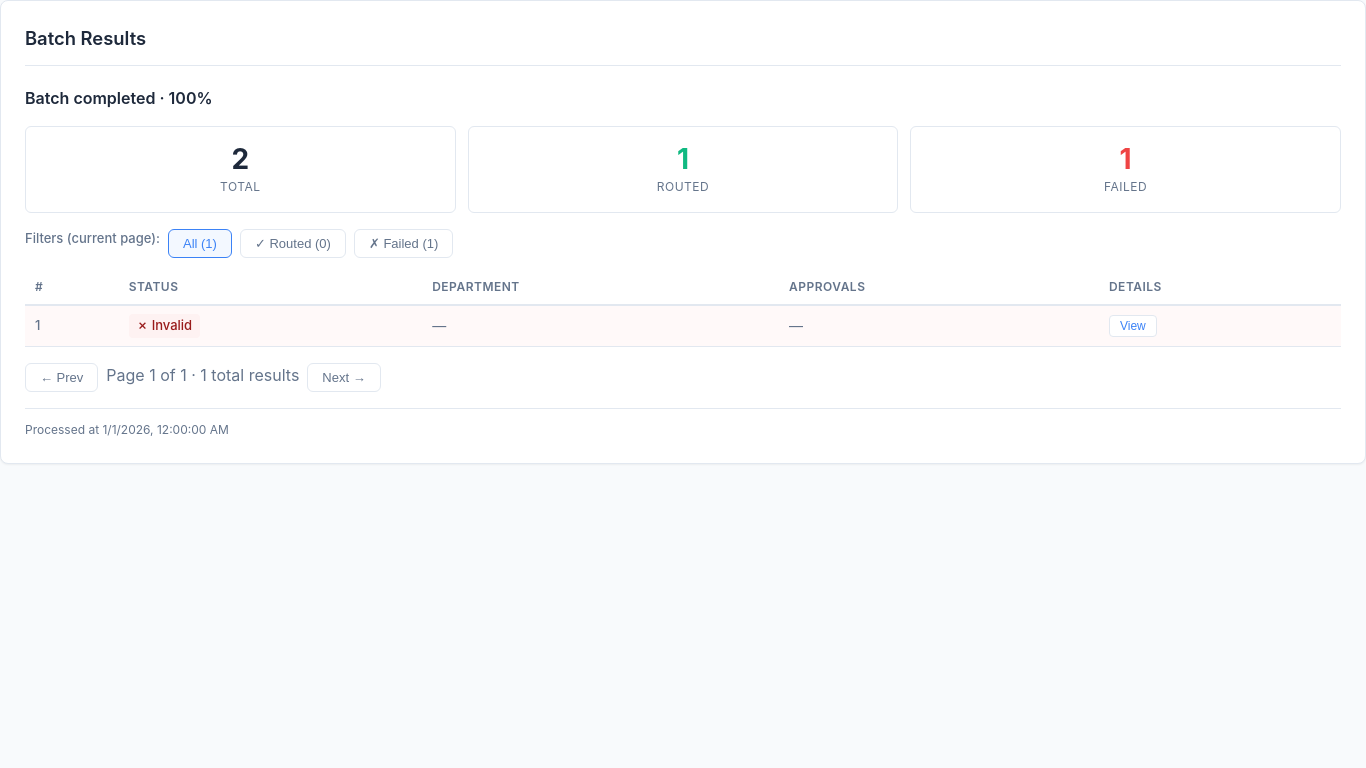
Scenario: BatchResults approvals (generic, data-driven) › invalid rows without error details render a fallback instead of crashing
What coordinates should you click on to do the following:
click the button "View"
I would click on:
 (1133, 326)
Its box is [1109,316,1157,338].
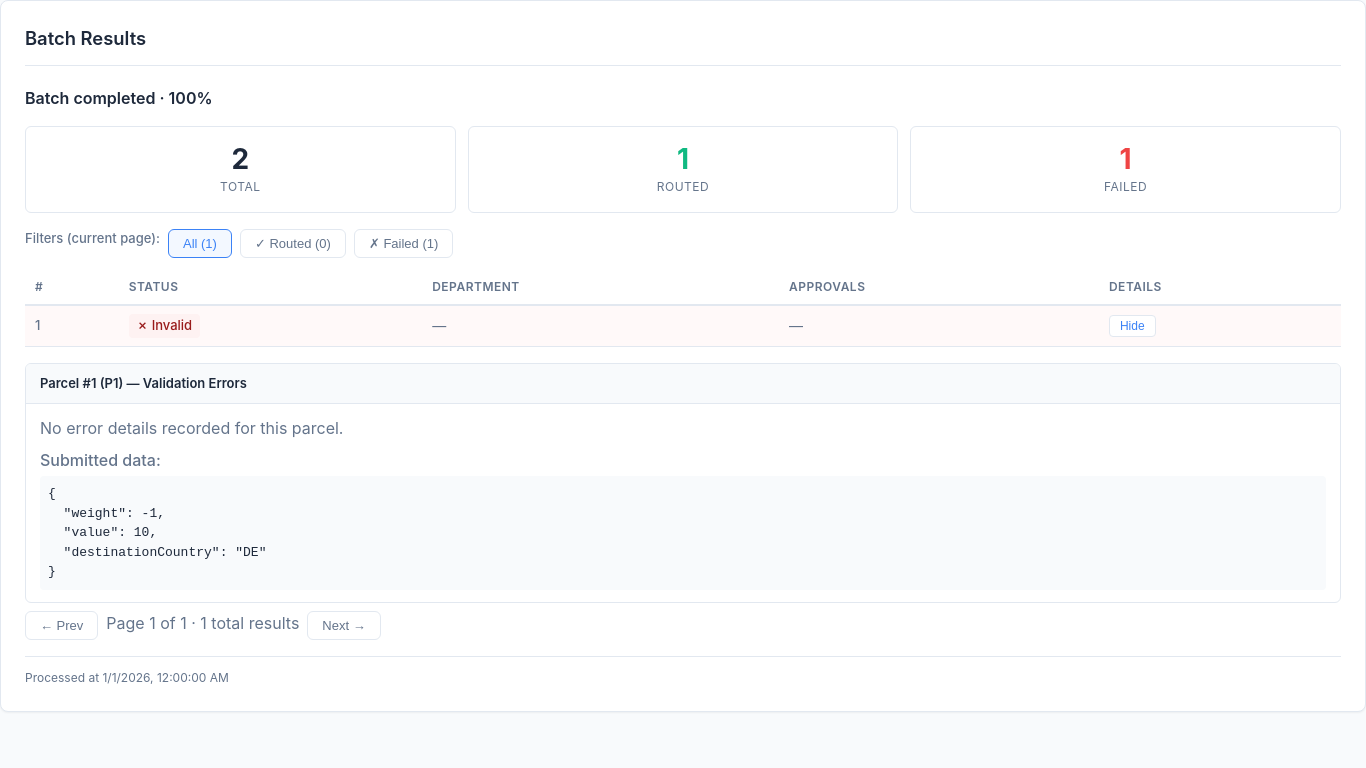
expect the text "No error details recorded for this parcel." is shown: met, box [40,418,344,438]
